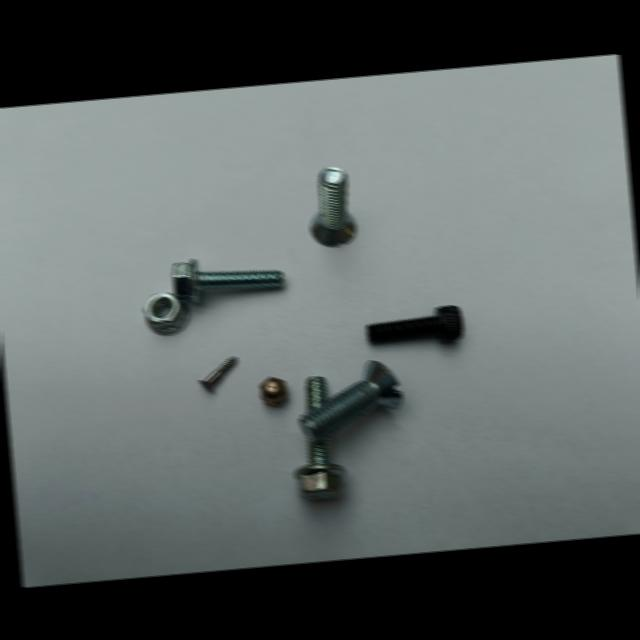bolt: (298, 360, 403, 442), (292, 375, 346, 500), (171, 258, 284, 302), (365, 304, 463, 343), (309, 166, 356, 246), (143, 292, 190, 334), (198, 356, 237, 392)
nuts: (258, 376, 288, 406)
